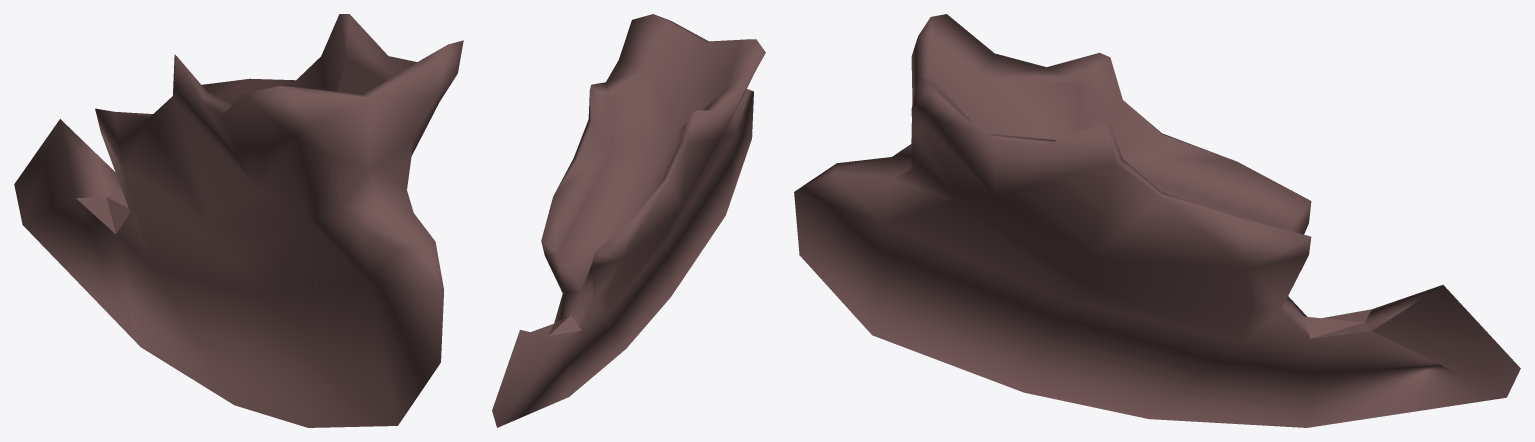
Rendered from SM_BirdSkeletonSternum.FBX.
The picture shows the model from 3 angles, left to right: view 1: azimuth 30°, elevation 25°; view 2: azimuth 150°, elevation 25°; view 3: azimuth 270°, elevation 25°; orthographic projection. The views are drawn at different scales.
Parts seen in each view (by area): view 1: SM_BirdSkeletonSternum; view 2: SM_BirdSkeletonSternum; view 3: SM_BirdSkeletonSternum.
Boxes of the visible parts, x1,y1,x2,y2 form: SM_BirdSkeletonSternum: [14, 14, 463, 427]; SM_BirdSkeletonSternum: [492, 14, 765, 427]; SM_BirdSkeletonSternum: [794, 14, 1520, 427].
Bounding box in the file's own units: 20.07 × 38.81 × 67.97.
